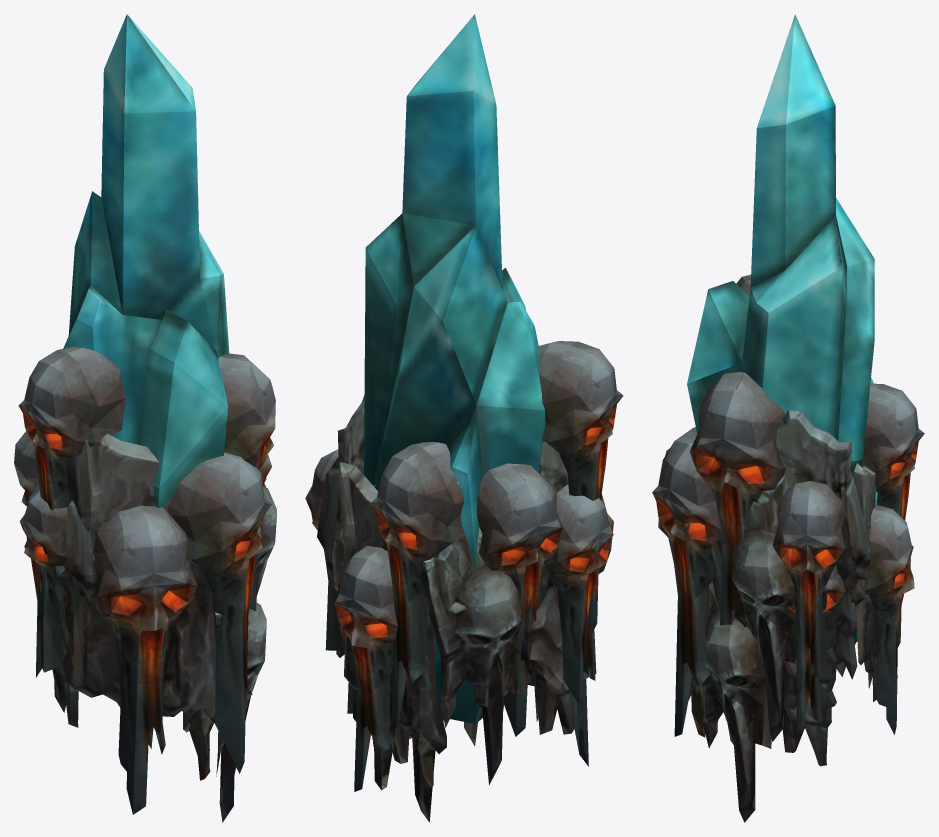
File: f_1105_shuijingzuo.FBX
The picture shows the model from 3 angles, left to right: view 1: azimuth 30°, elevation 25°; view 2: azimuth 150°, elevation 25°; view 3: azimuth 270°, elevation 25°; orthographic projection. The views are drawn at different scales.
Visible parts, largest first — view 1: f_108_Bone_99; view 2: f_108_Bone_99; view 3: f_108_Bone_99.
Boxes of the visible parts, <box> form: f_108_Bone_99: <box>14,14,276,822</box>; f_108_Bone_99: <box>305,14,623,822</box>; f_108_Bone_99: <box>652,14,924,822</box>.
Bounding box in the file's own units: 1654 × 4905 × 1561.
